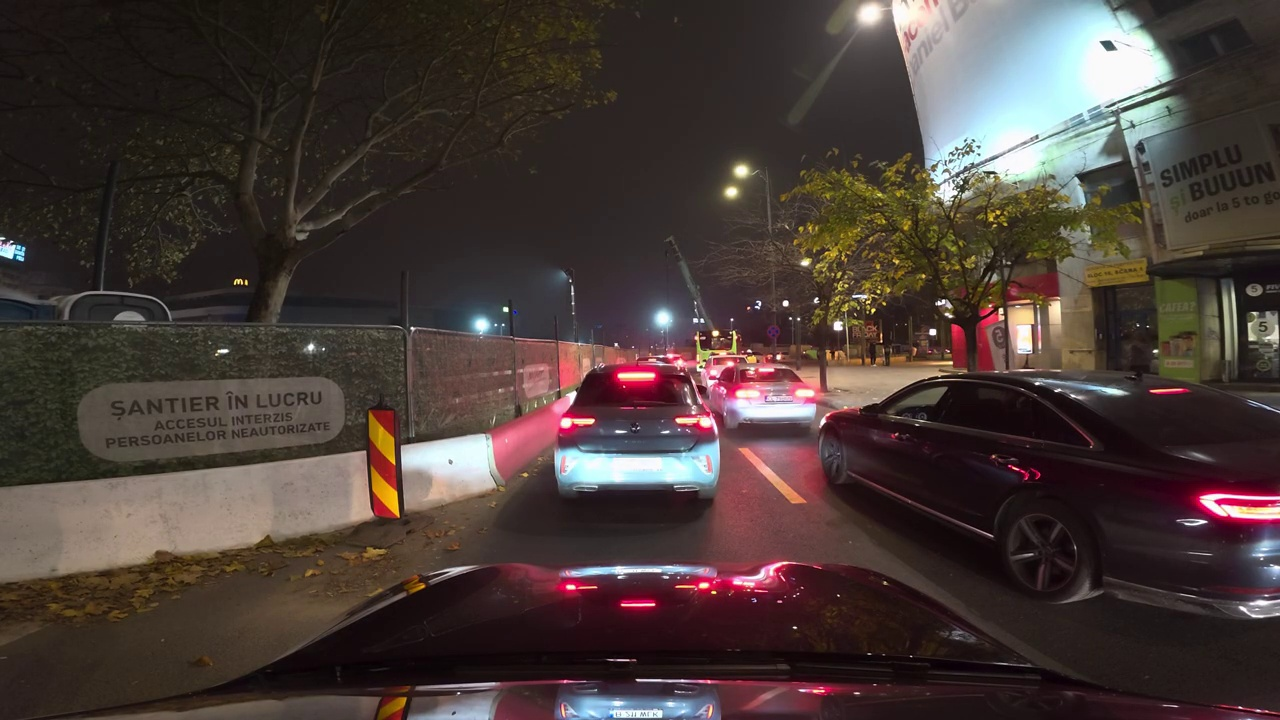acesa: (721, 162, 753, 203), (855, 2, 887, 29), (652, 306, 674, 330)
